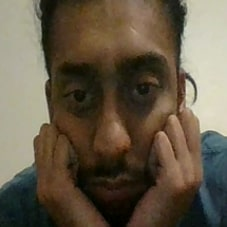drowsy: (25, 51, 206, 219)
